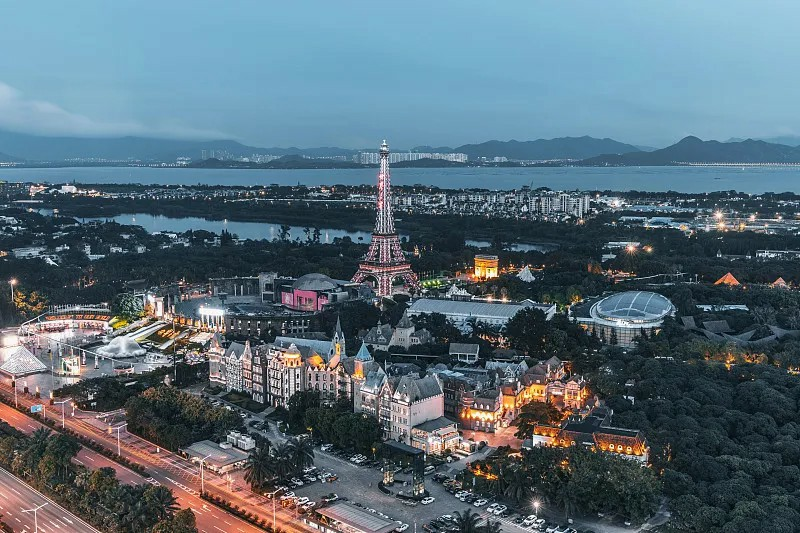Eiffel: (350, 140, 420, 294)
